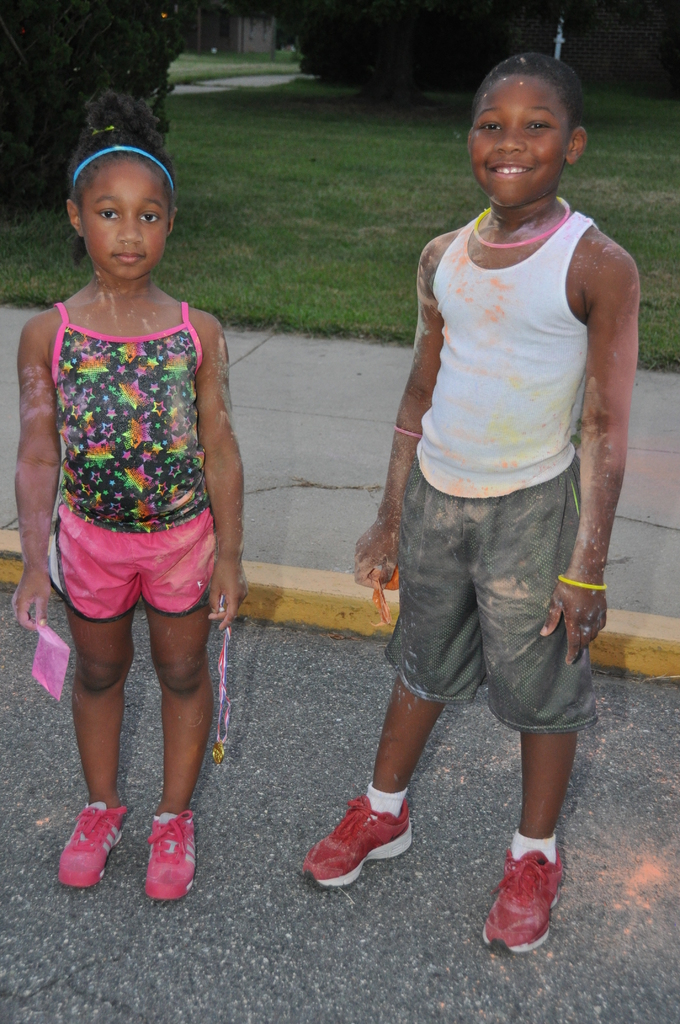Human_hand: (540, 568, 606, 664), (355, 520, 402, 596), (208, 557, 250, 634), (8, 568, 52, 636)
